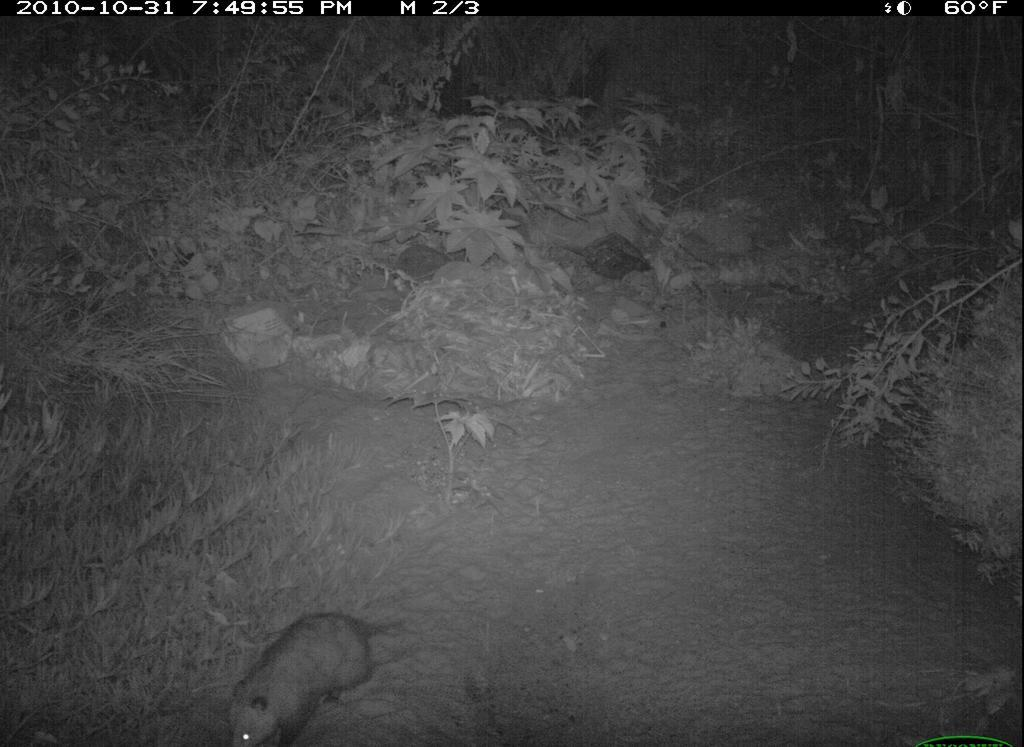opossum: (213, 603, 419, 745)
